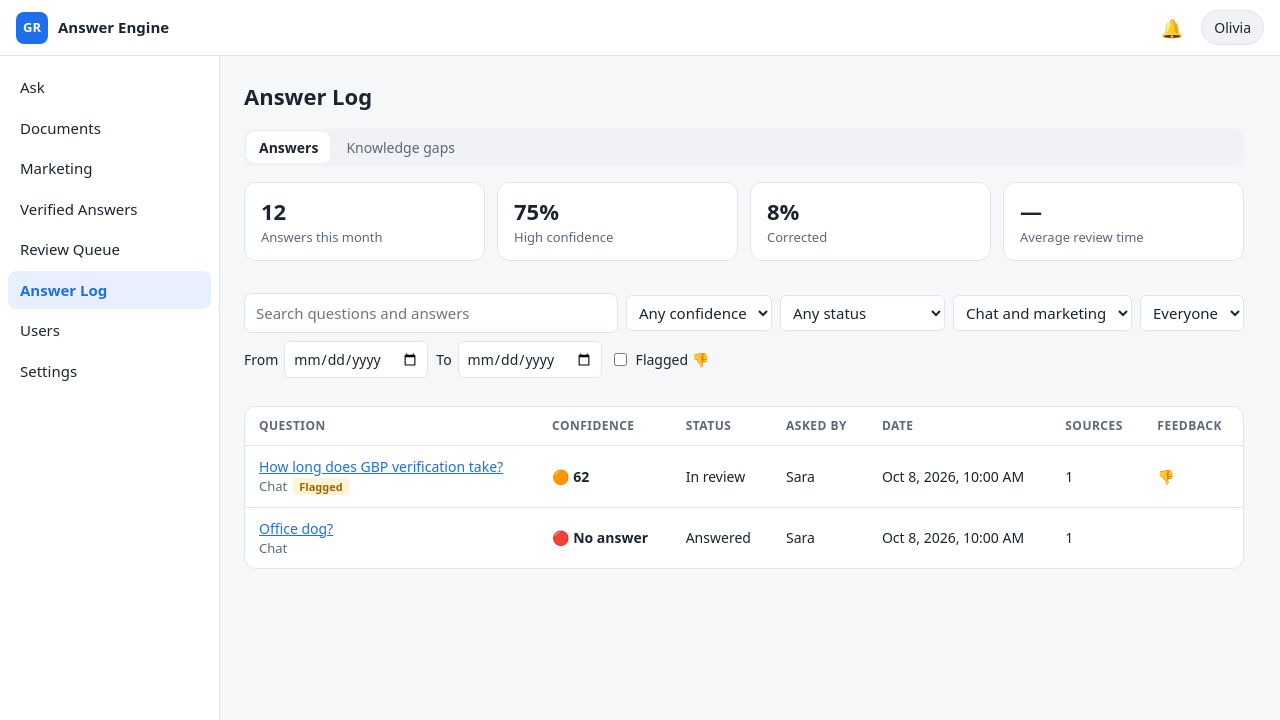
Test: the Answer Log lists answers with stats, and filters ask the server
The width and height of the screenshot is (1280, 720).
Check: the text "🟠 62" is shown, box x1=552 y1=467 x2=589 y2=486
Check: the text "🔴 No answer" is shown, box x1=552 y1=528 x2=648 y2=547
Select "Low" in the dropdown named "Confidence" at (699, 313), box x1=626 y1=295 x2=772 y2=331
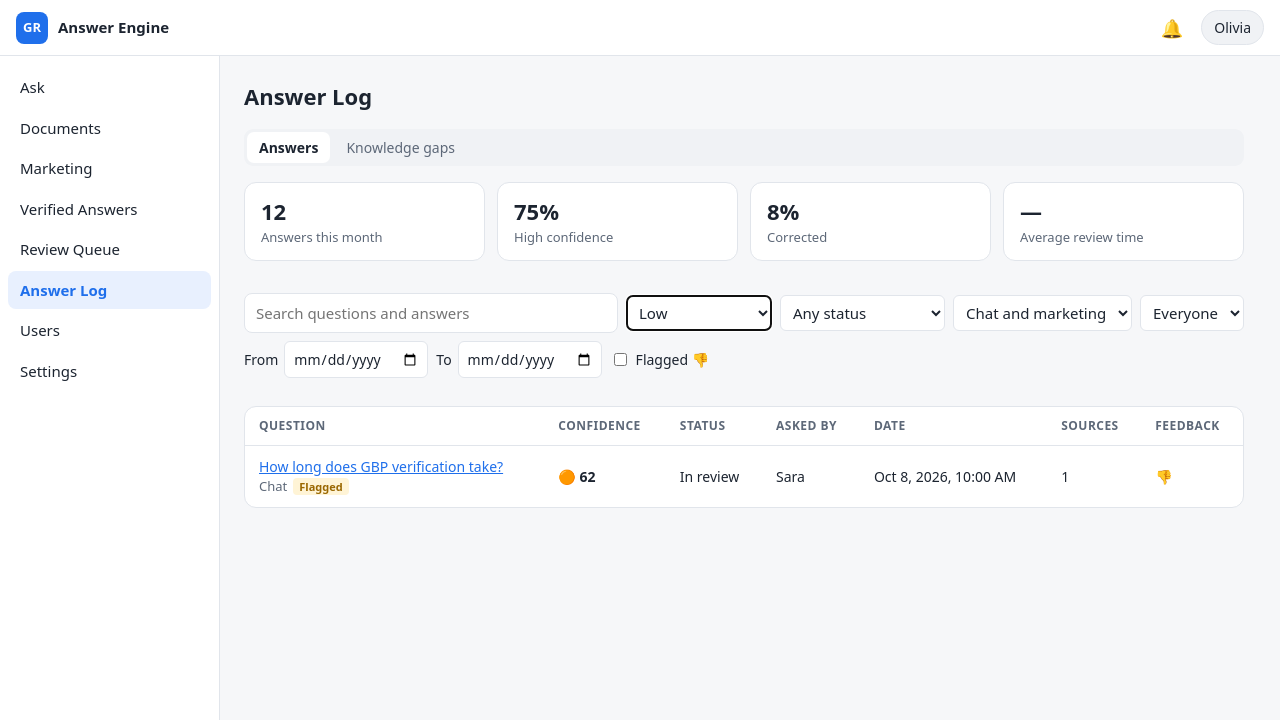
Check: the button "Office dog?" is gone
